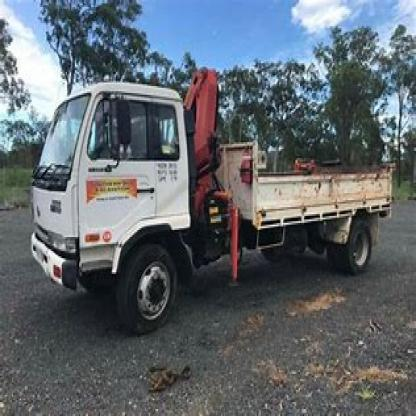dump_truck: (34, 49, 392, 335)
